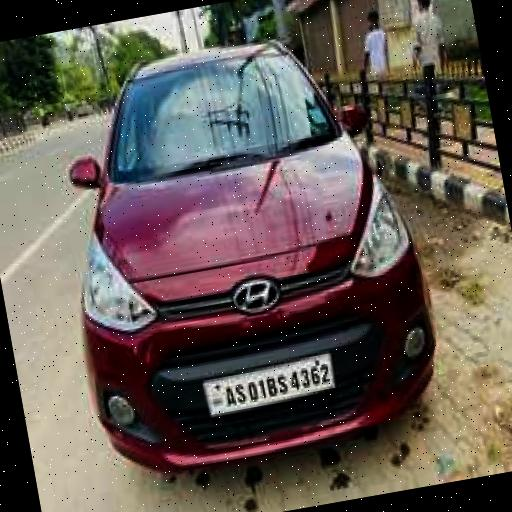license_plate`: (198, 348, 336, 415)
